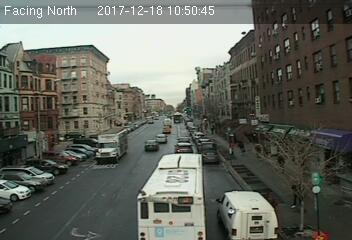bus: (138, 153, 208, 239)
car: (200, 149, 220, 162), (174, 142, 194, 153), (143, 140, 160, 151)
pedestrian: (289, 179, 305, 211)
truck: (215, 189, 278, 238), (95, 127, 128, 159)
